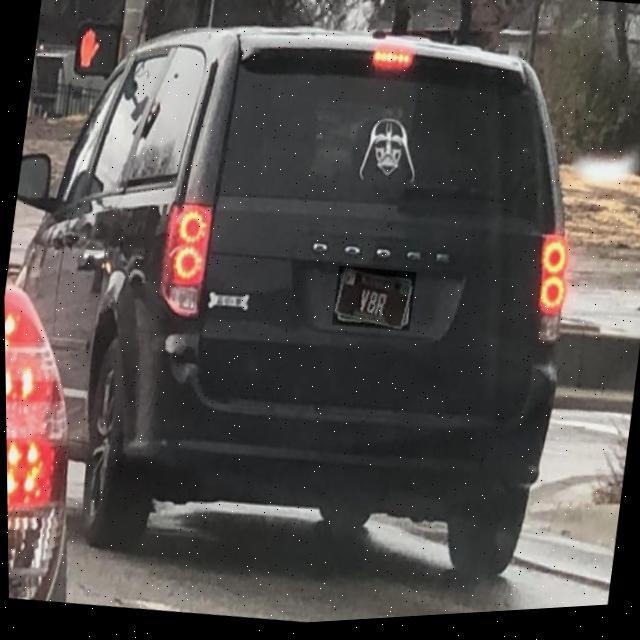LicensePlate: (332, 271, 414, 336)
